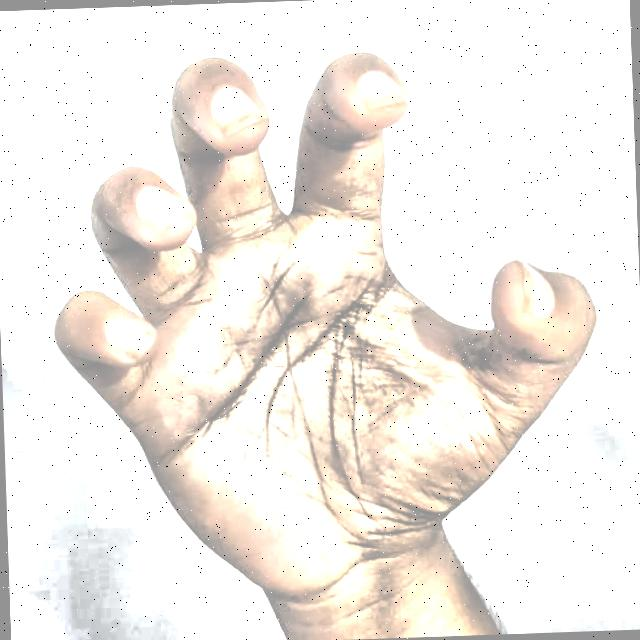Ja: (28, 17, 619, 640)
